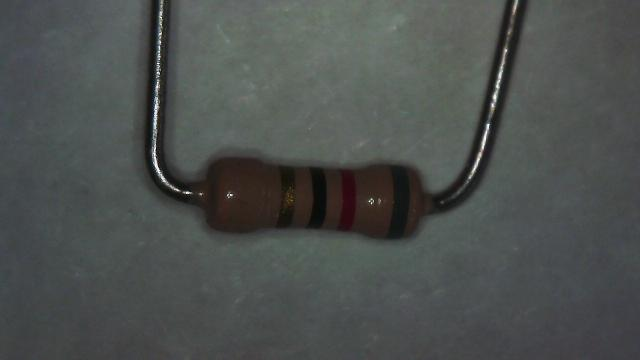black: (308, 168, 326, 228)
gold: (276, 167, 294, 226)
grey: (387, 166, 410, 238)
red: (337, 170, 356, 231)
resistor: (191, 133, 429, 250)
